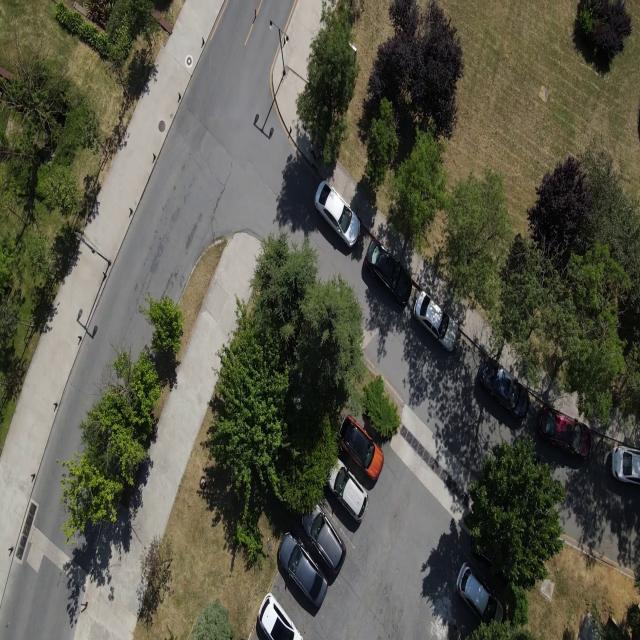p3rson: (309, 139, 317, 160)
